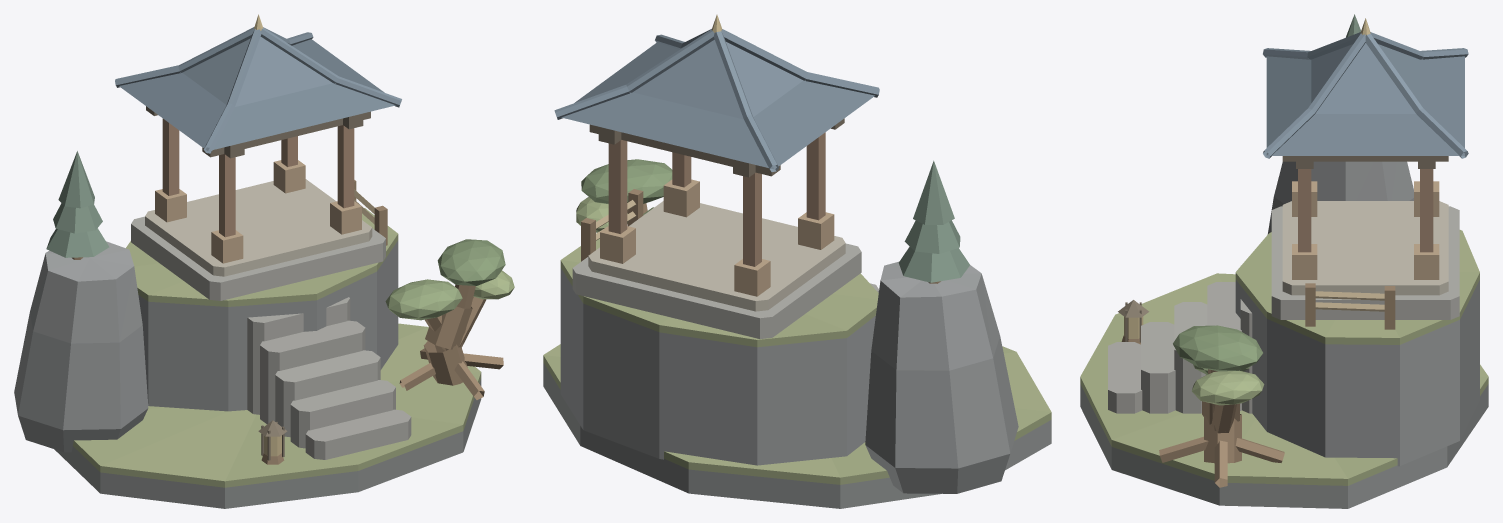
The picture shows the model from 3 angles, left to right: view 1: azimuth 30°, elevation 25°; view 2: azimuth 150°, elevation 25°; view 3: azimuth 270°, elevation 25°; orthographic projection. The views are drawn at different scales.
Visible parts, largest first — view 1: S15; view 2: S15; view 3: S15.
Boxes of the visible parts, x1,y1,x2,y2 form: S15: [14, 14, 514, 508]; S15: [543, 14, 1051, 508]; S15: [1080, 14, 1488, 508].
Size of the model in its own units: 4.92 by 4.05 by 3.7.
